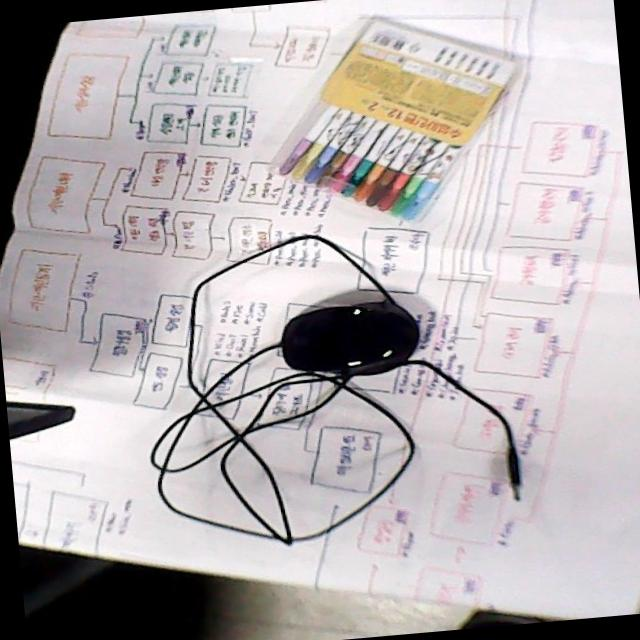mouse: (276, 297, 424, 380)
signpen: (269, 4, 536, 233)
